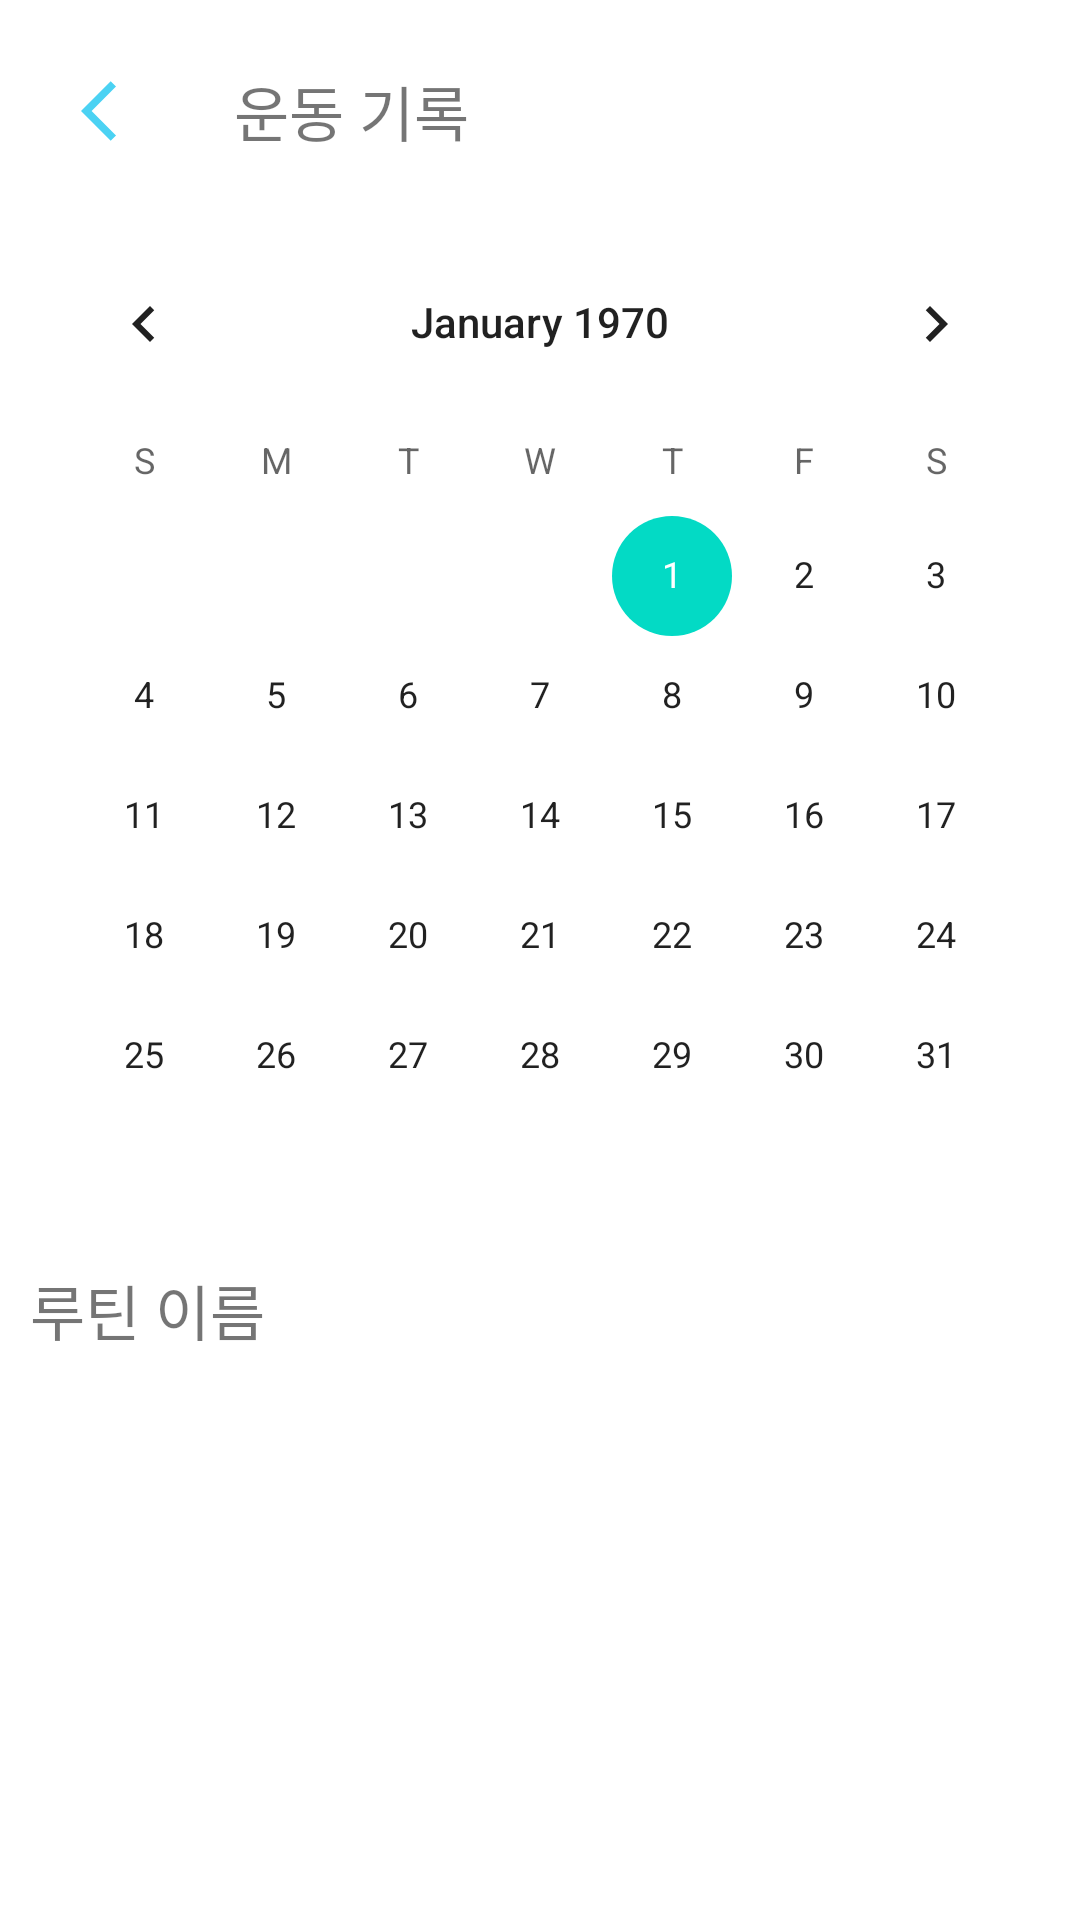

Screen size 1080 × 1920. Icon name, then its center in pixels as (x,y):
back: (98,111)
